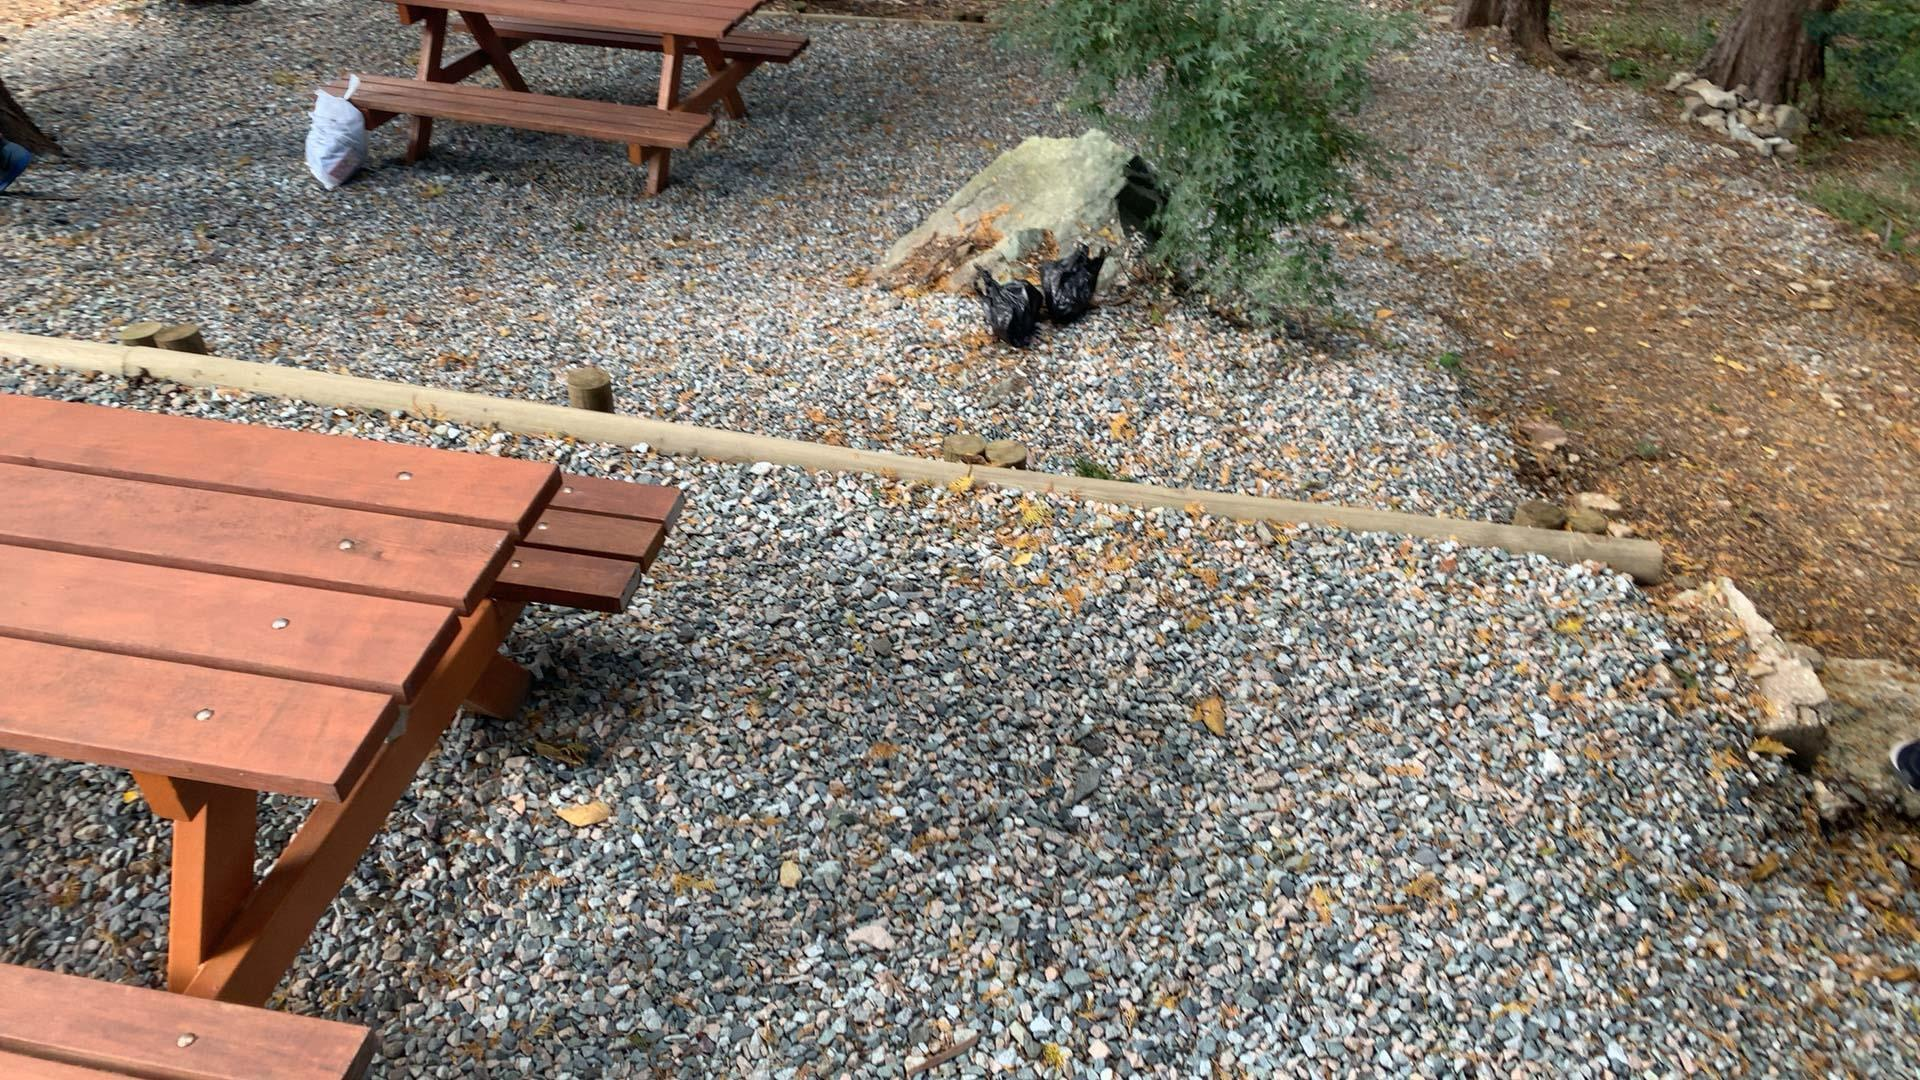black_bag: (968, 256, 1044, 344), (1036, 240, 1112, 328)
white_bag: (287, 67, 382, 198)
